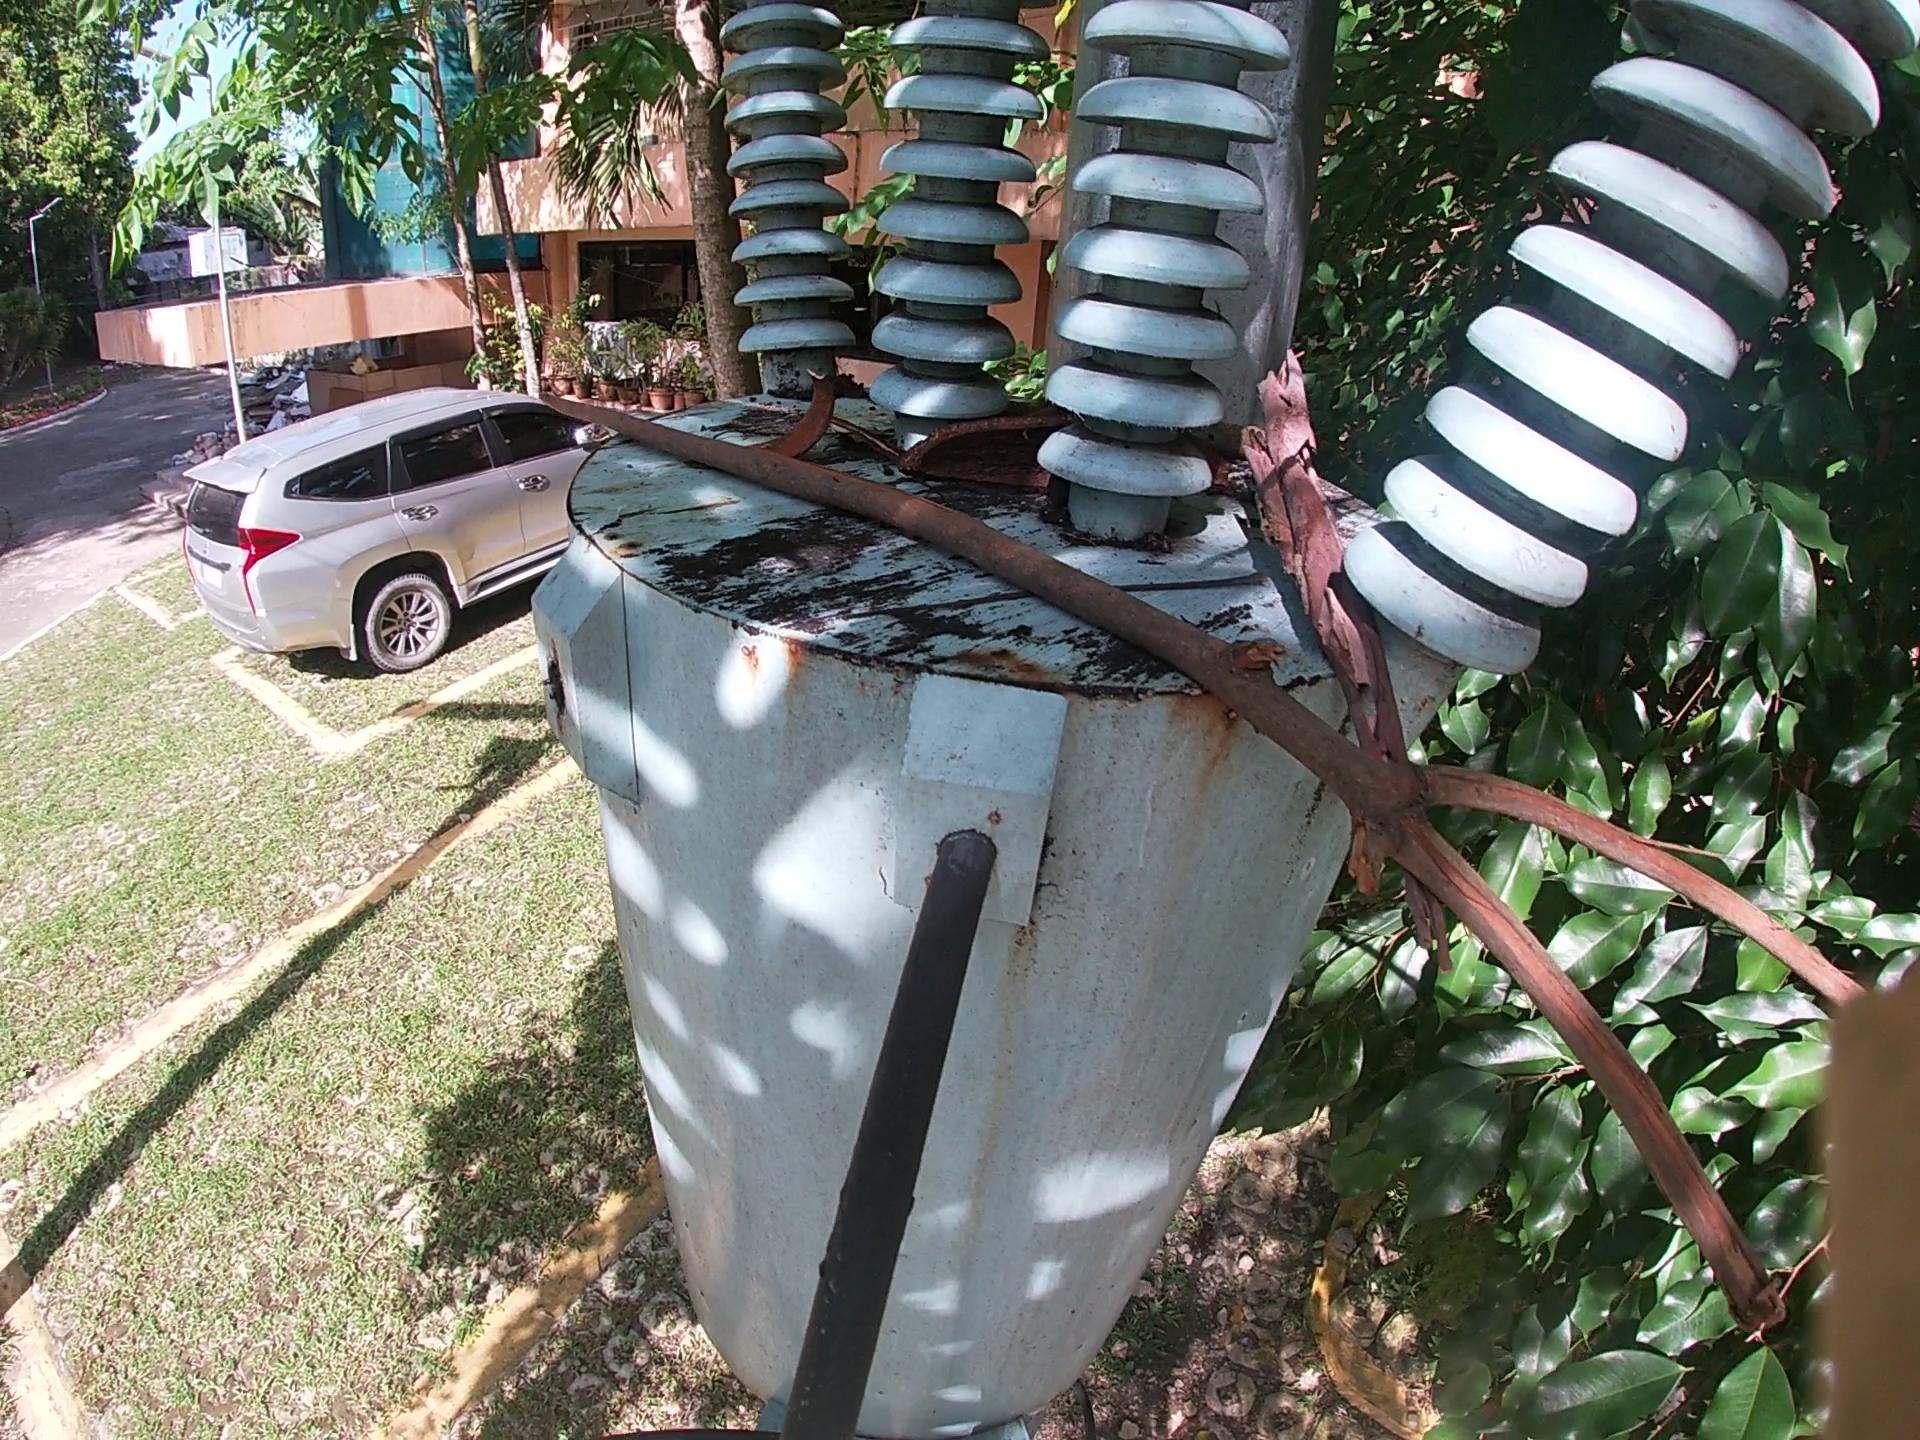mahogany fruit: (901, 417, 1061, 496), (751, 365, 856, 446), (1188, 439, 1252, 487)
tree branch: (528, 369, 1903, 1351), (1237, 351, 1457, 974), (825, 563, 1273, 629), (838, 408, 904, 458), (1212, 408, 1256, 451)
